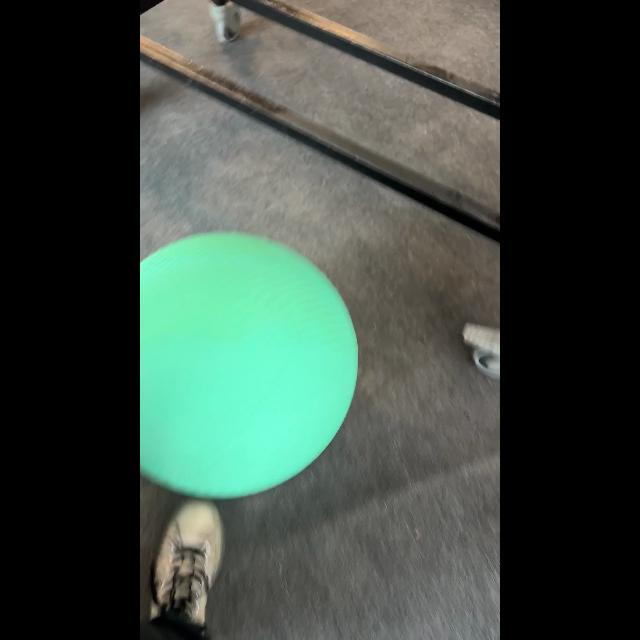ALGAE: (141, 230, 359, 500)
